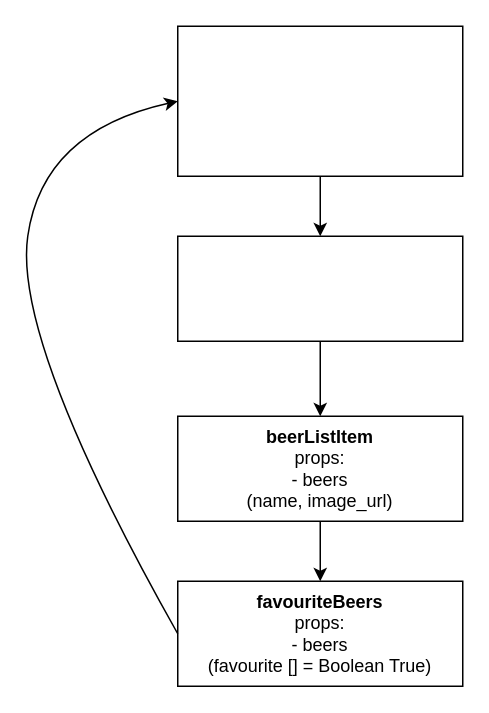
This 489x713 diagram has some shape labels left out. Here are the shapes that lost their labels. From the top down, the centre of each, then its label:
the point at 319,100: app.vue state: - list of all beers - selected beer - favourite beers [] false
the point at 319,288: beersList.vue props: - beers
